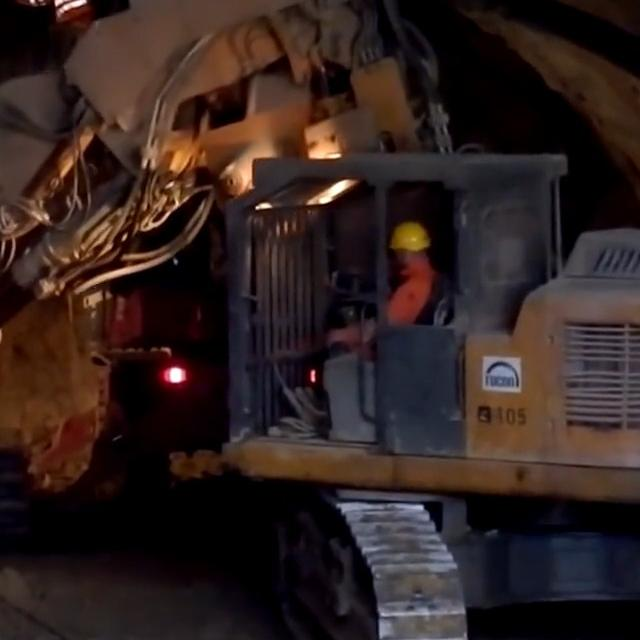Excavator: (0, 0, 640, 640)
Hardhat: (391, 223, 431, 250)
NO-Mask: (399, 255, 409, 266)
Person: (318, 217, 438, 415)
Safety Vest: (387, 260, 442, 325)
